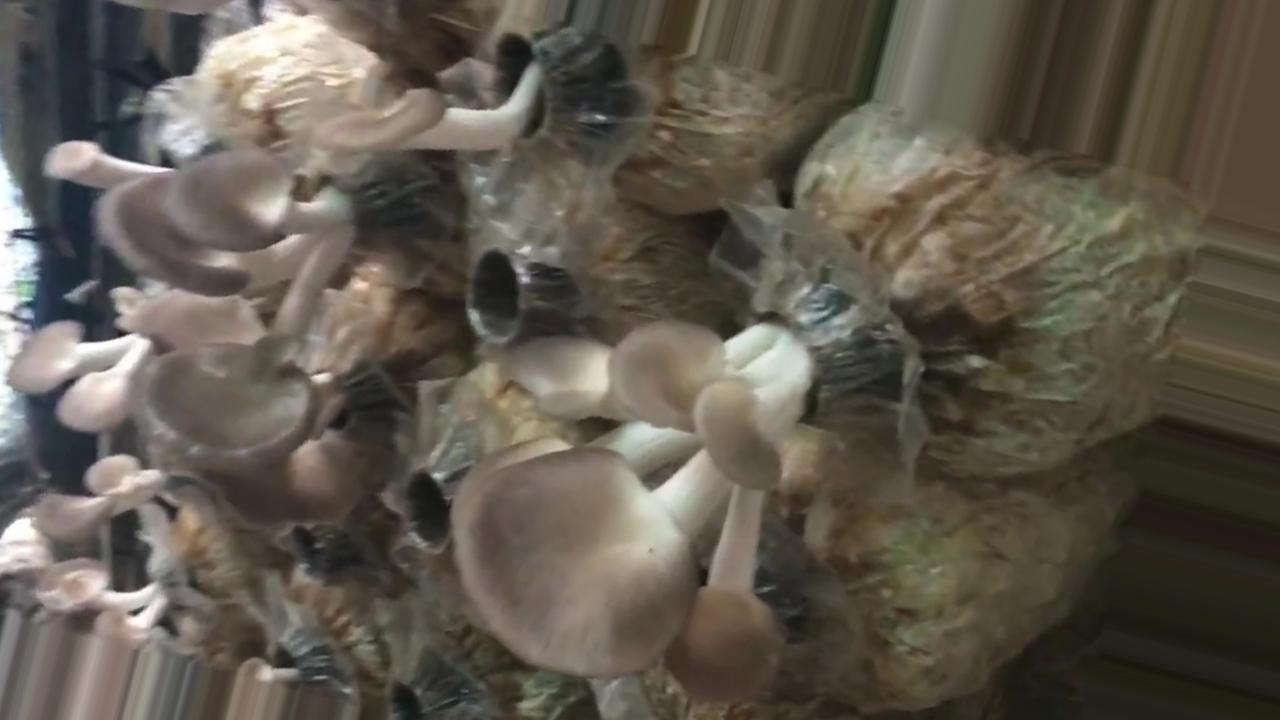nam: (459, 288, 863, 695), (56, 142, 402, 466), (324, 27, 588, 152), (11, 320, 159, 430), (36, 452, 185, 541), (48, 563, 189, 645)
